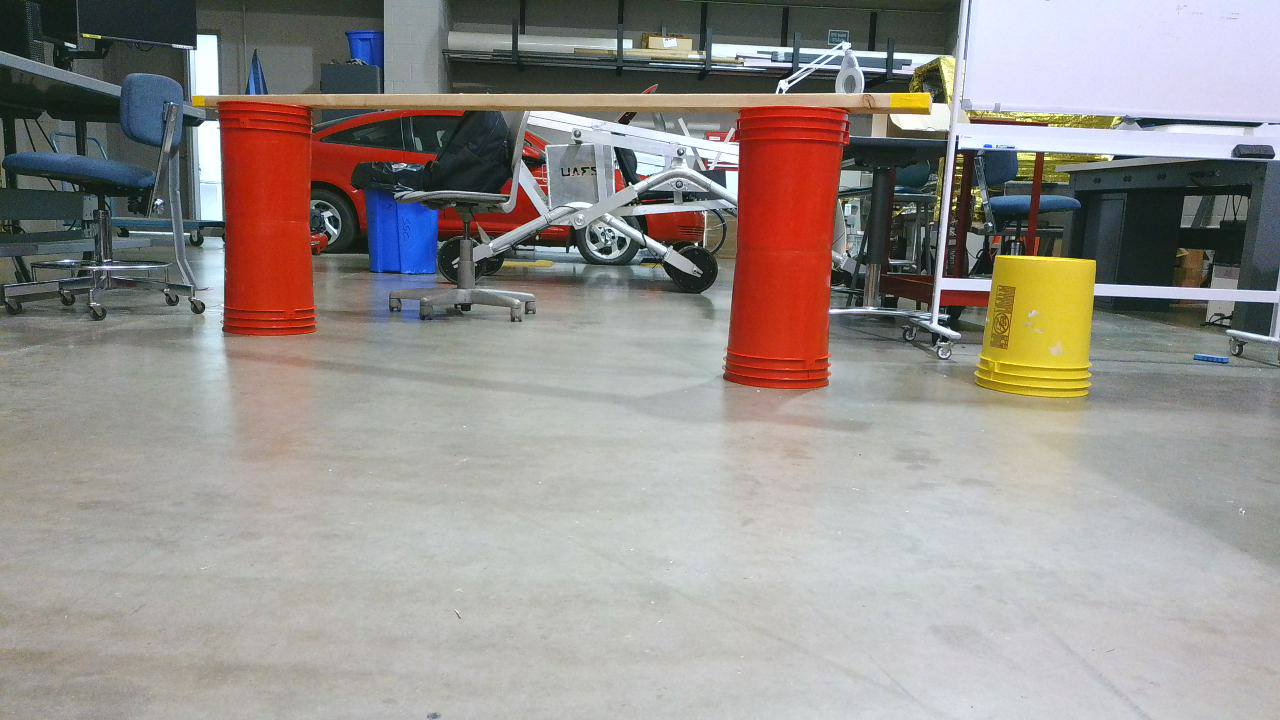red_bucket_arch: (220, 84, 859, 395)
yellow_bucket: (973, 256, 1115, 405)
